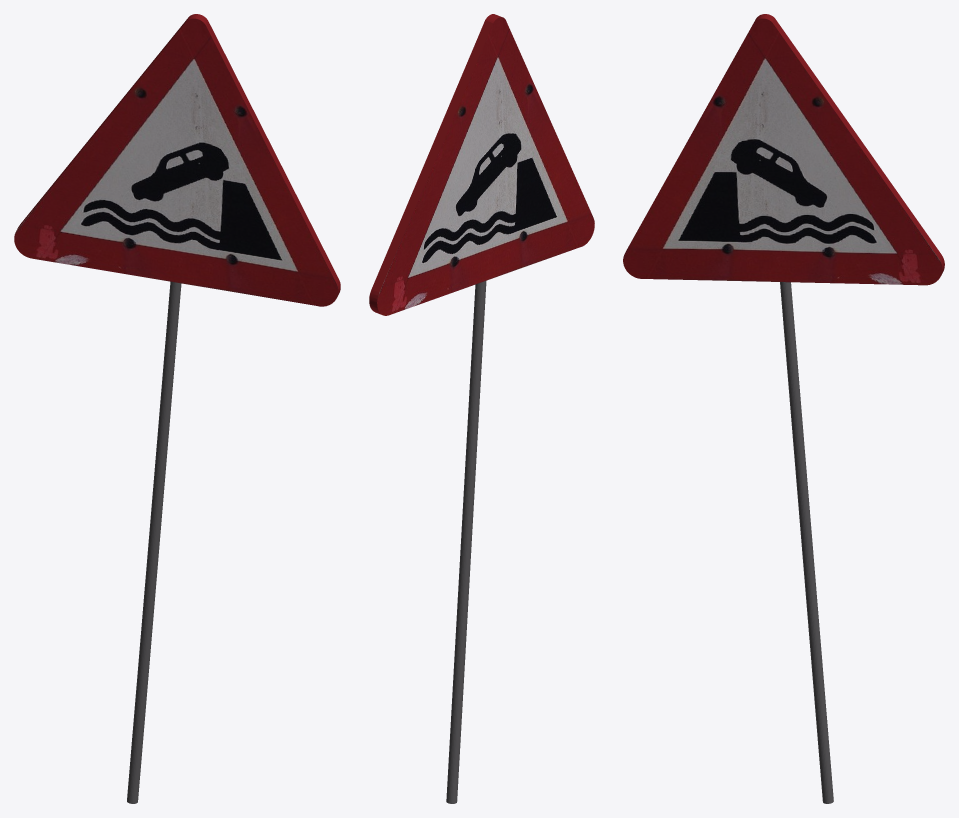
The model's file is traffic-sign.glb.
The picture shows the model from 3 angles, left to right: view 1: azimuth 90°, elevation 25°; view 2: azimuth 150°, elevation 25°; view 3: azimuth 270°, elevation 25°; orthographic projection. The views are drawn at different scales.
Parts seen in each view (by area): view 1: shovel; view 2: shovel; view 3: shovel.
Boxes of the visible parts, bbox=[...] form: shovel: bbox=[14, 14, 340, 803]; shovel: bbox=[369, 14, 594, 803]; shovel: bbox=[623, 14, 944, 803].
Size of the model in its own units: 0.1718 by 1.8 by 0.673.
Materials: 3 (3 with a texture image).
